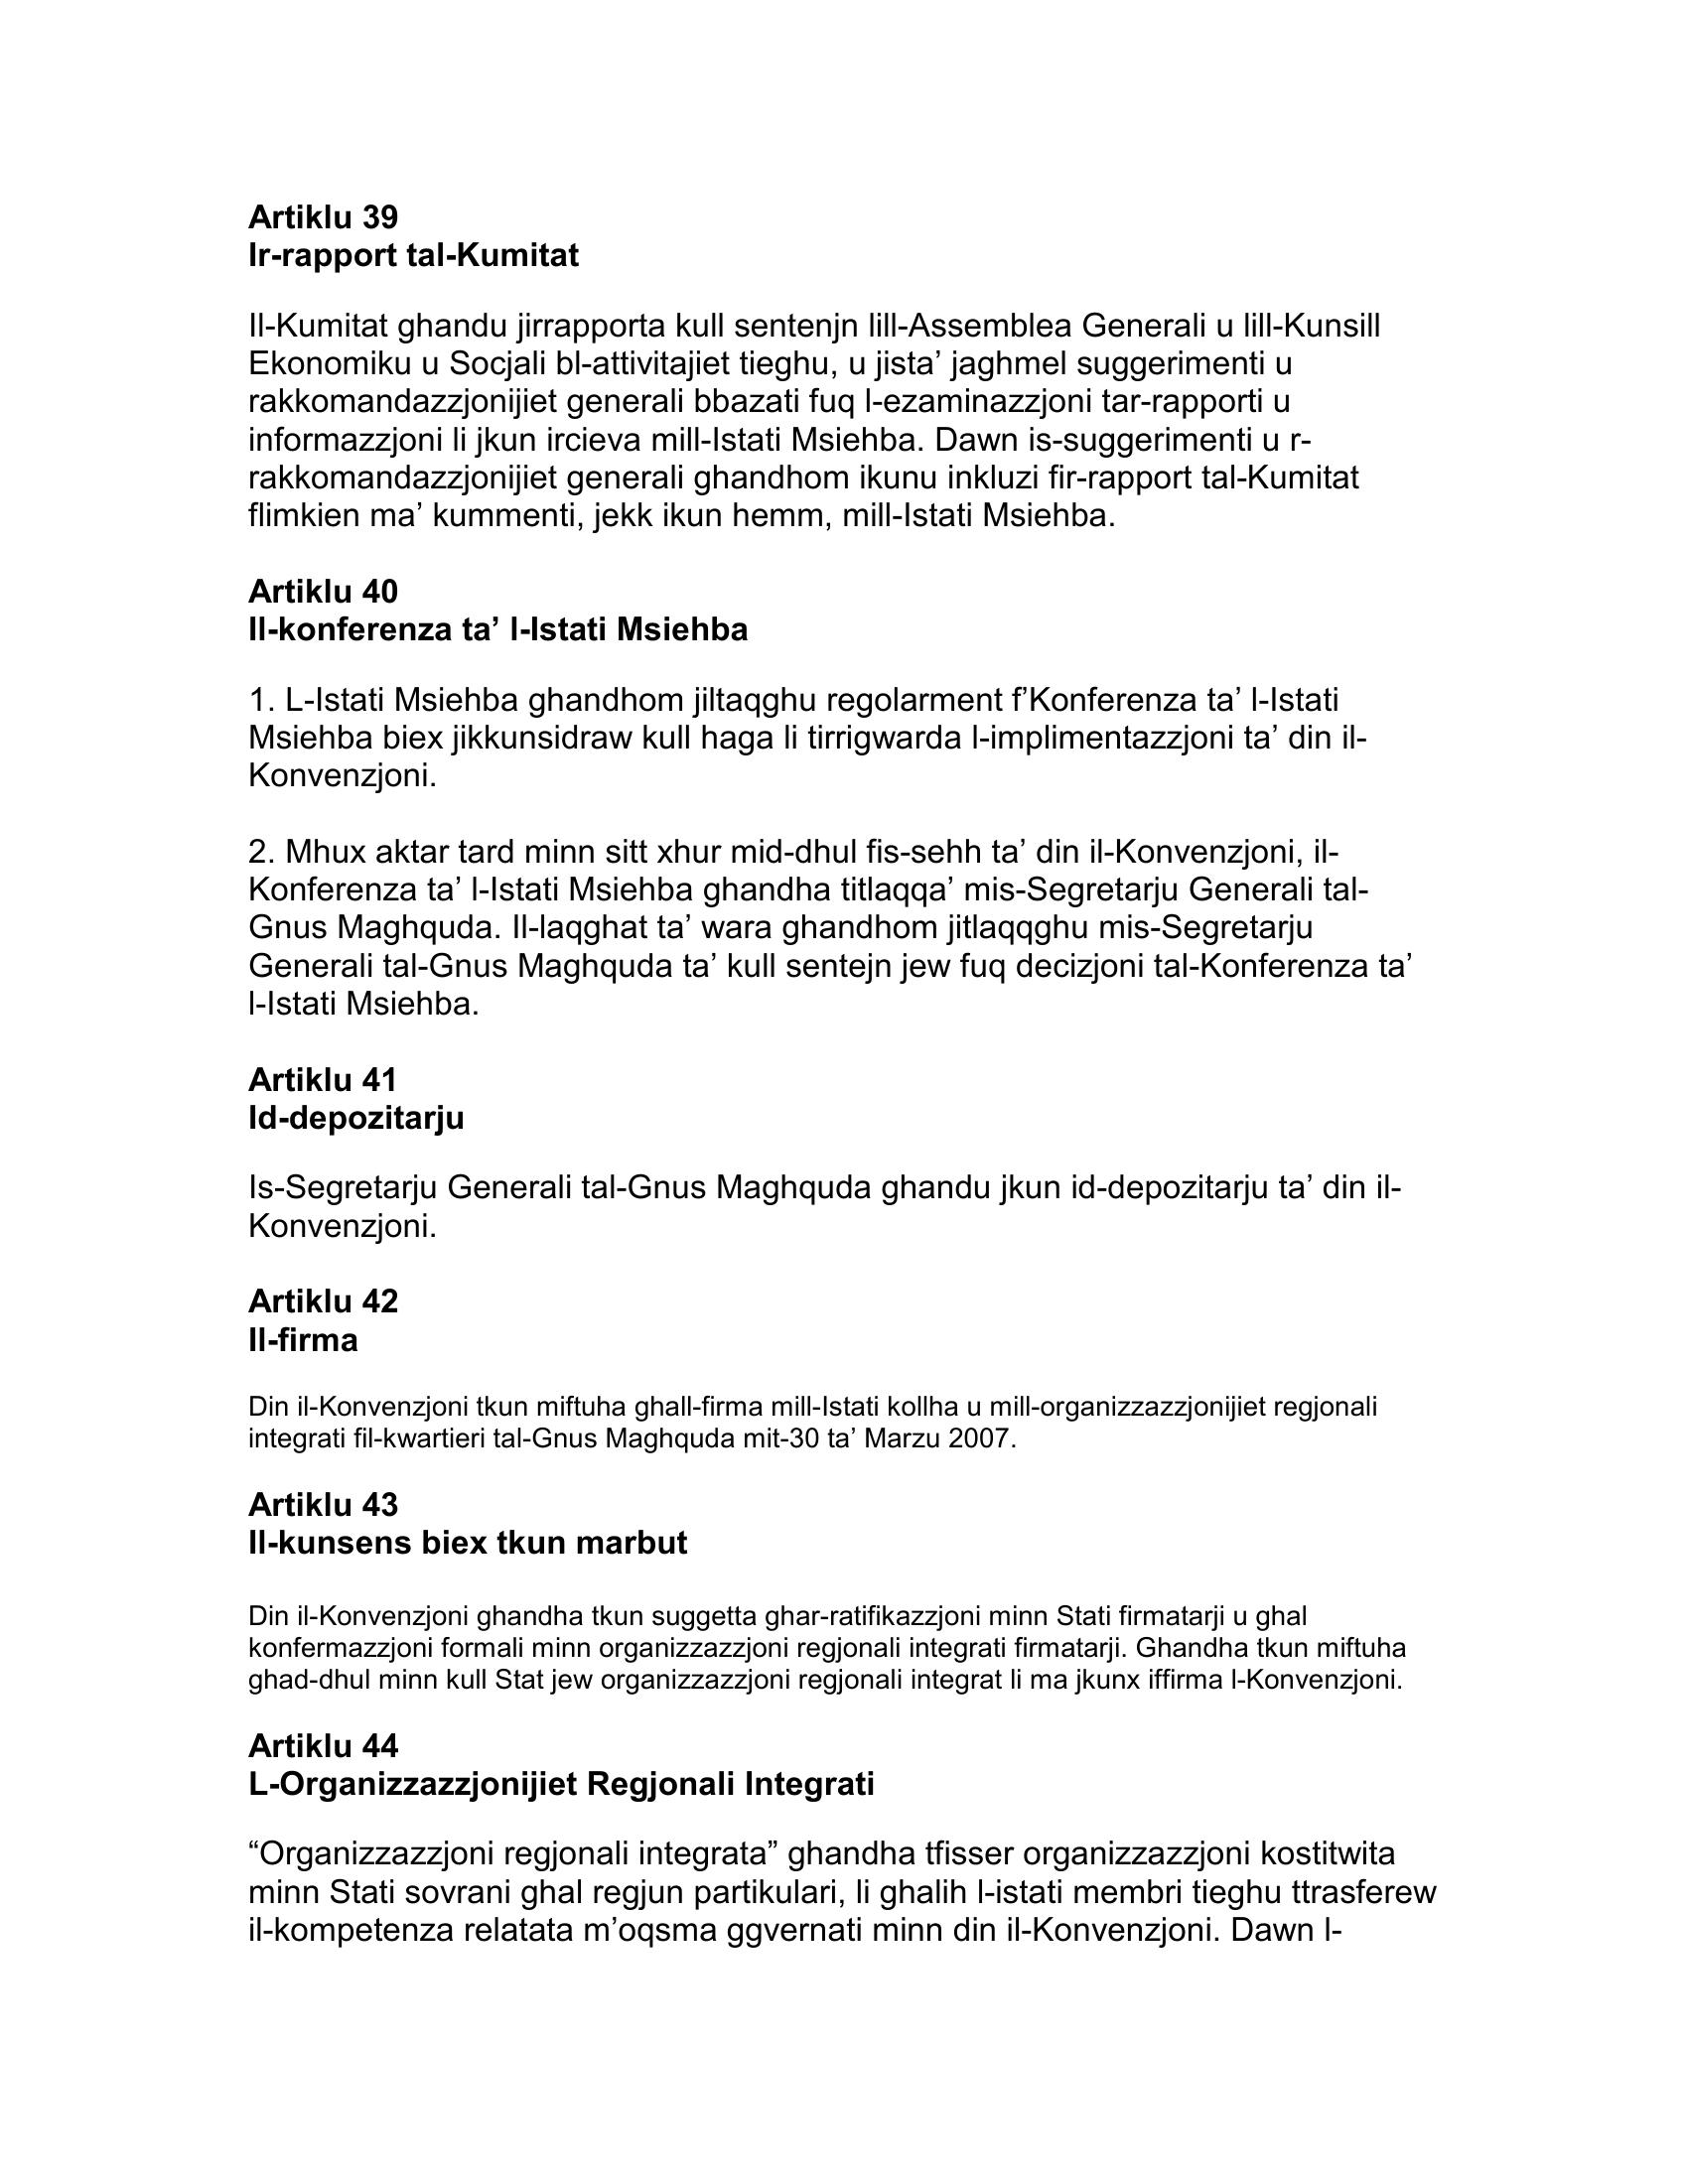text: (223, 184, 1491, 1993)
